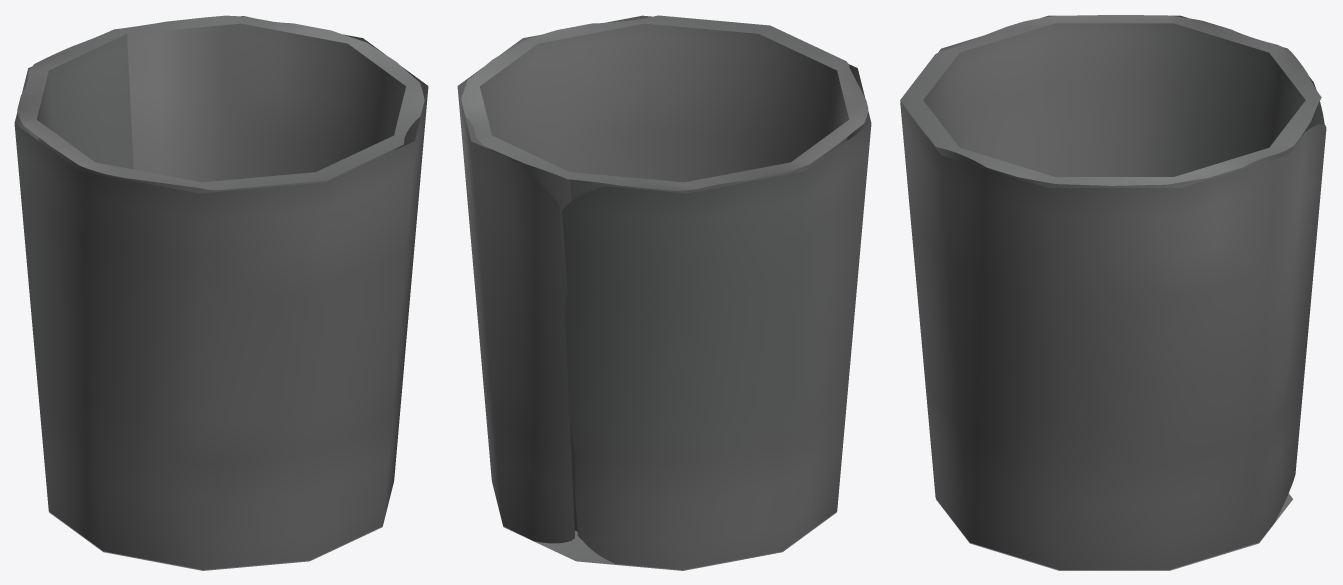
The model's file is wire-bin.gltf.
3 views of the same model, side by side, from view 1: azimuth 30°, elevation 25°; view 2: azimuth 150°, elevation 25°; view 3: azimuth 270°, elevation 25° (orthographic).
Parts seen in each view (by area): view 1: Trash_bin; view 2: Trash_bin; view 3: Trash_bin.
Boxes of the visible parts, <box> form: Trash_bin: <box>14,15,428,570</box>; Trash_bin: <box>457,15,871,570</box>; Trash_bin: <box>900,15,1326,570</box>.
Bounding box in the file's own units: 0.4034 × 0.4352 × 0.4241.
Materials: 1 (1 with a texture image).
